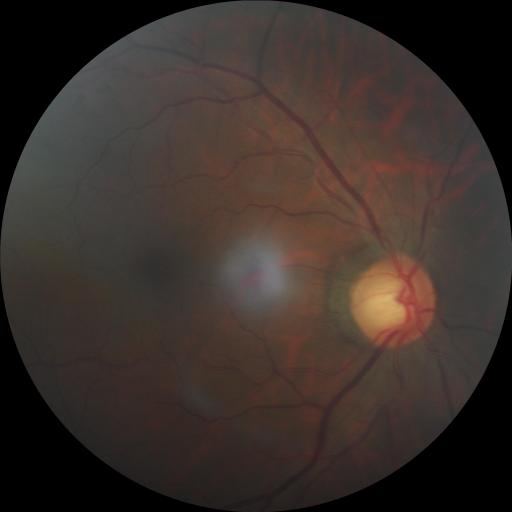Optic Cup: (370, 281, 412, 328)
Optic Disc: (350, 255, 435, 348)
